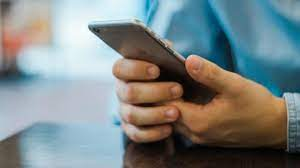Mobile-phone: (88, 18, 217, 98)
